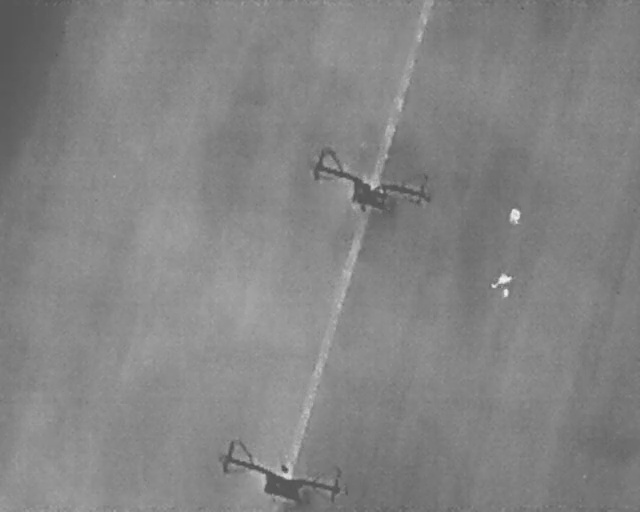Person: (491, 270, 513, 300), (507, 207, 521, 227)
